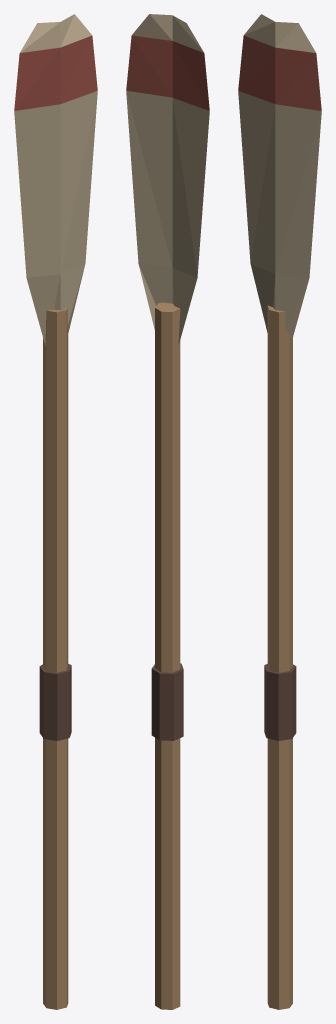
Rendered from RepairOar.glb.
3 renders of one model, left to right at view 1: azimuth 30°, elevation 25°; view 2: azimuth 150°, elevation 25°; view 3: azimuth 330°, elevation 25°, orthographic.
Visible parts, largest first — view 1: RepairOar; view 2: RepairOar; view 3: RepairOar.
Boxes of the visible parts, x1,y1,x2,y2 form: RepairOar: [14, 14, 97, 1009]; RepairOar: [126, 14, 209, 1009]; RepairOar: [238, 14, 321, 1009].
Size of the model in its own units: 0.17 by 1.92 by 0.0551.
